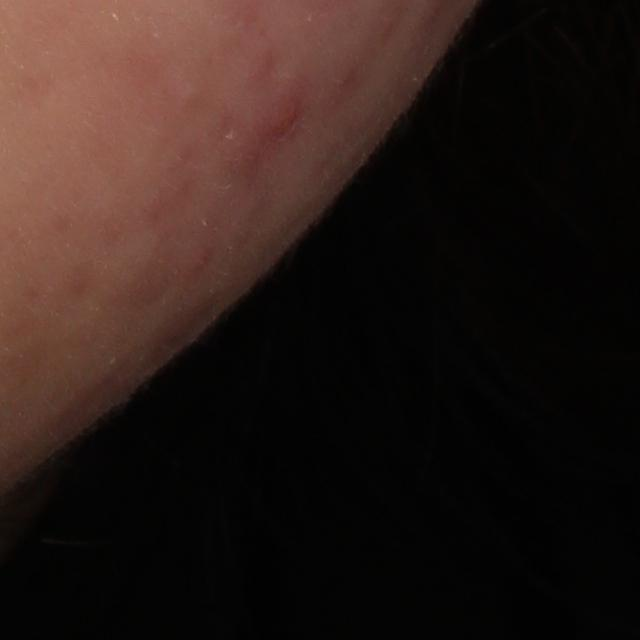comedo: (174, 74, 209, 113)
papule: (260, 89, 306, 141)
